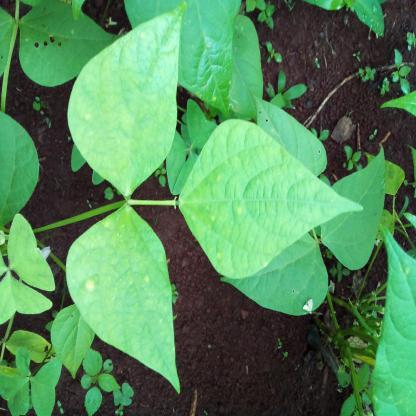Beans_Rust: (178, 121, 367, 277), (64, 192, 184, 393), (70, 0, 178, 193)
